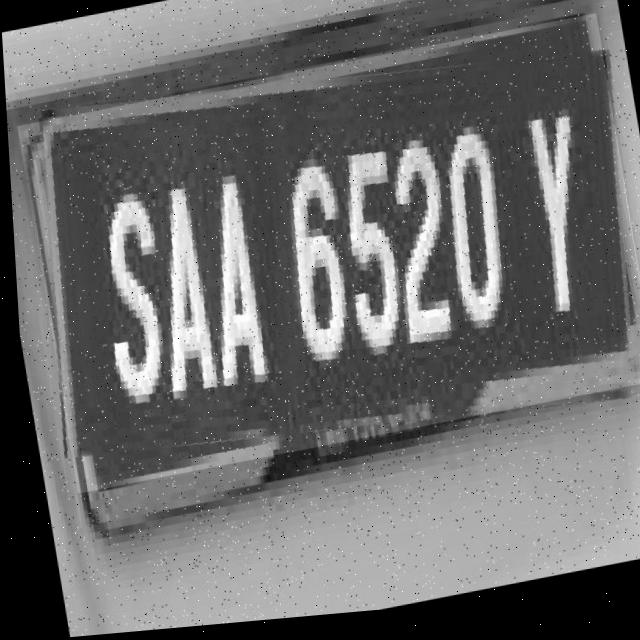LicensePlate: (12, 21, 640, 497)
